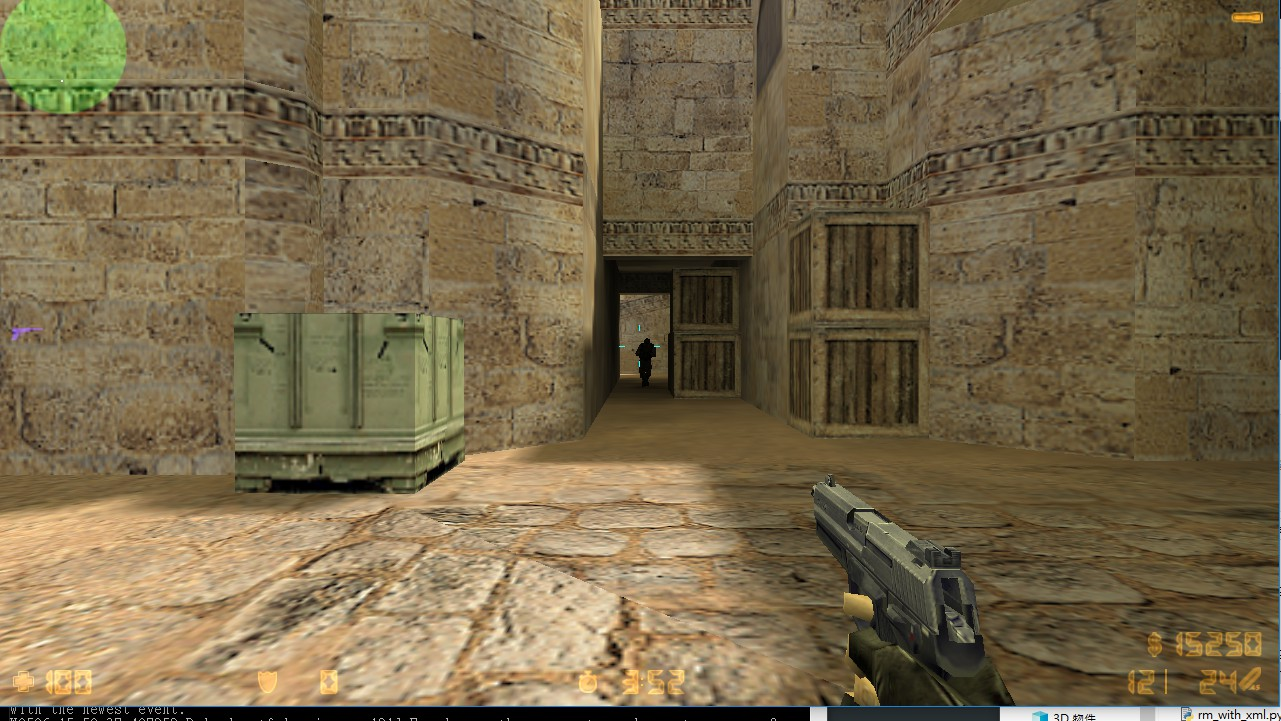person: (632, 336, 661, 397)
